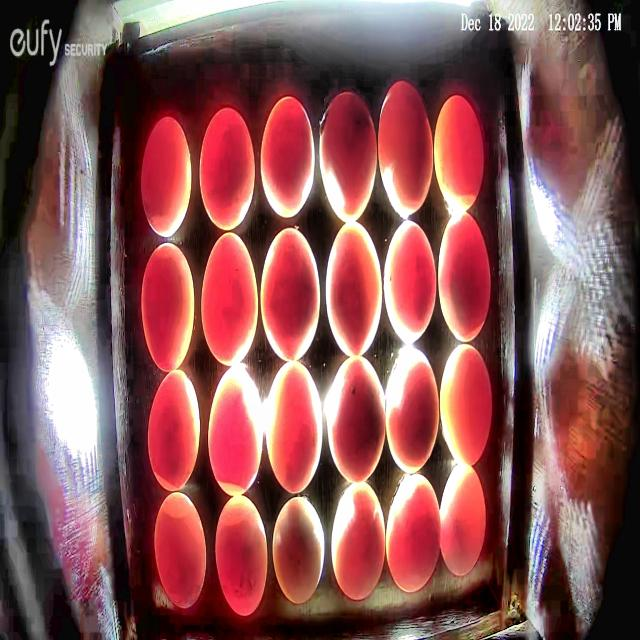FE: (260, 227, 320, 362), (318, 90, 378, 224), (325, 220, 383, 356), (326, 354, 386, 484), (378, 78, 433, 218), (201, 232, 258, 366), (265, 363, 323, 493), (207, 366, 263, 498), (198, 106, 256, 231), (141, 241, 195, 372), (437, 210, 490, 343), (386, 344, 440, 474), (260, 96, 316, 220), (331, 481, 386, 601), (384, 219, 436, 345), (148, 370, 201, 492), (440, 342, 492, 466), (140, 116, 193, 237), (387, 474, 441, 592), (215, 493, 267, 615), (154, 491, 207, 609), (434, 92, 484, 213), (272, 497, 324, 605), (440, 463, 486, 577)
